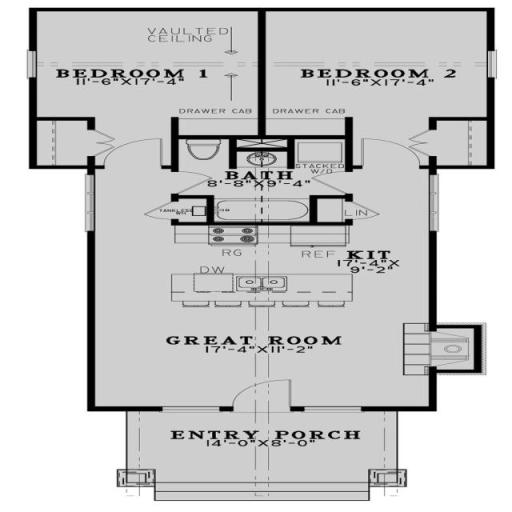Room: (114, 323, 432, 401)
bathroom: (115, 142, 413, 240)
bedroom: (270, 10, 481, 147), (54, 16, 262, 132)
kitchen: (169, 239, 410, 319)
porch: (132, 417, 412, 497)
